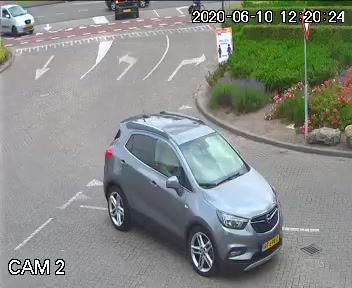car: (89, 107, 291, 278), (0, 3, 37, 39), (105, 0, 145, 20)
